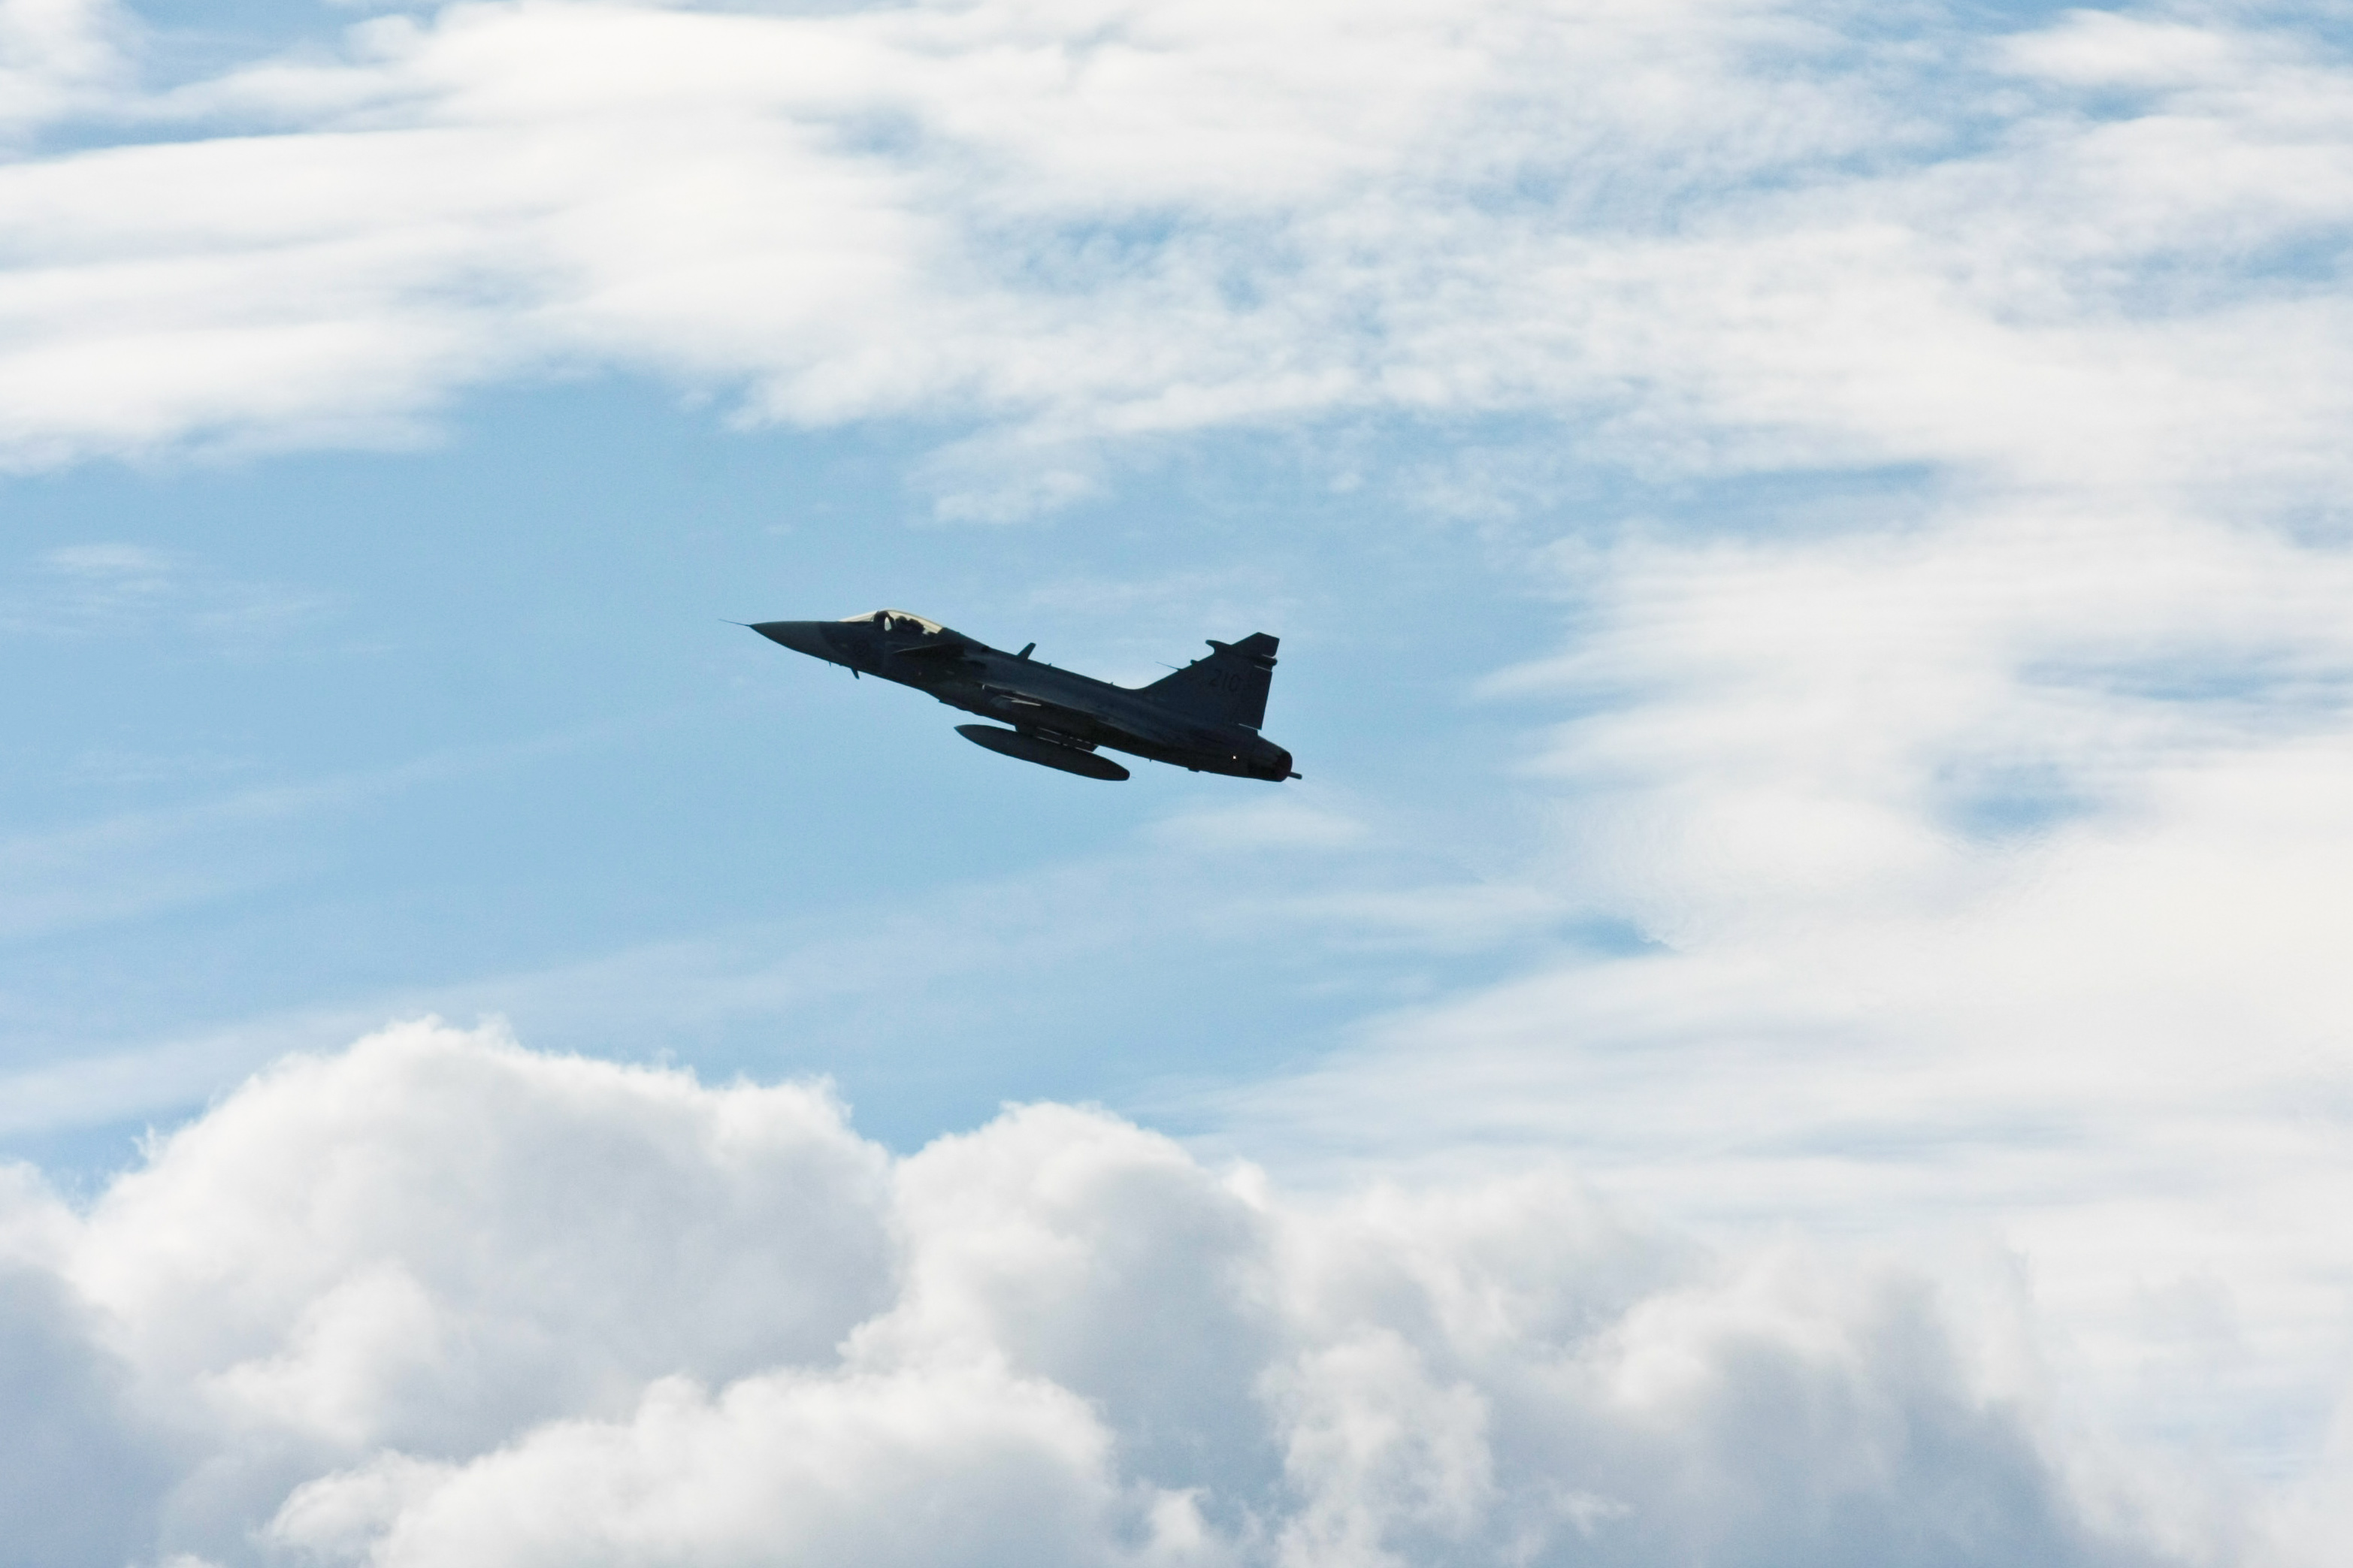JAS39: (716, 607, 1303, 782)
